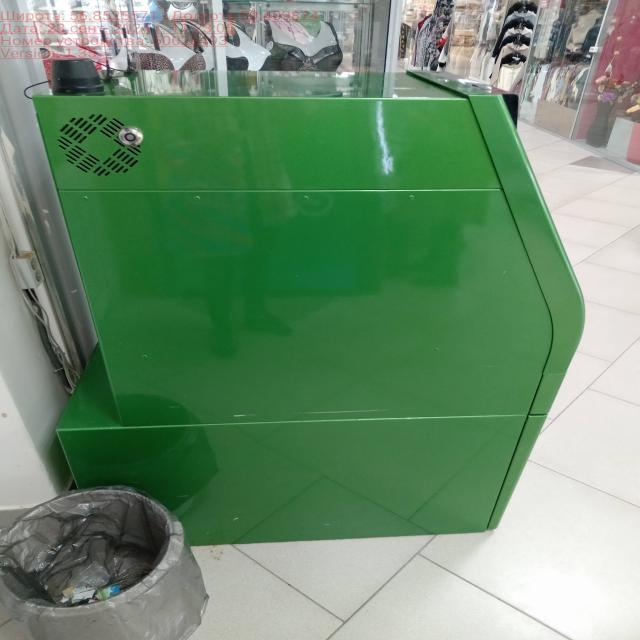bank: (29, 72, 586, 546)
